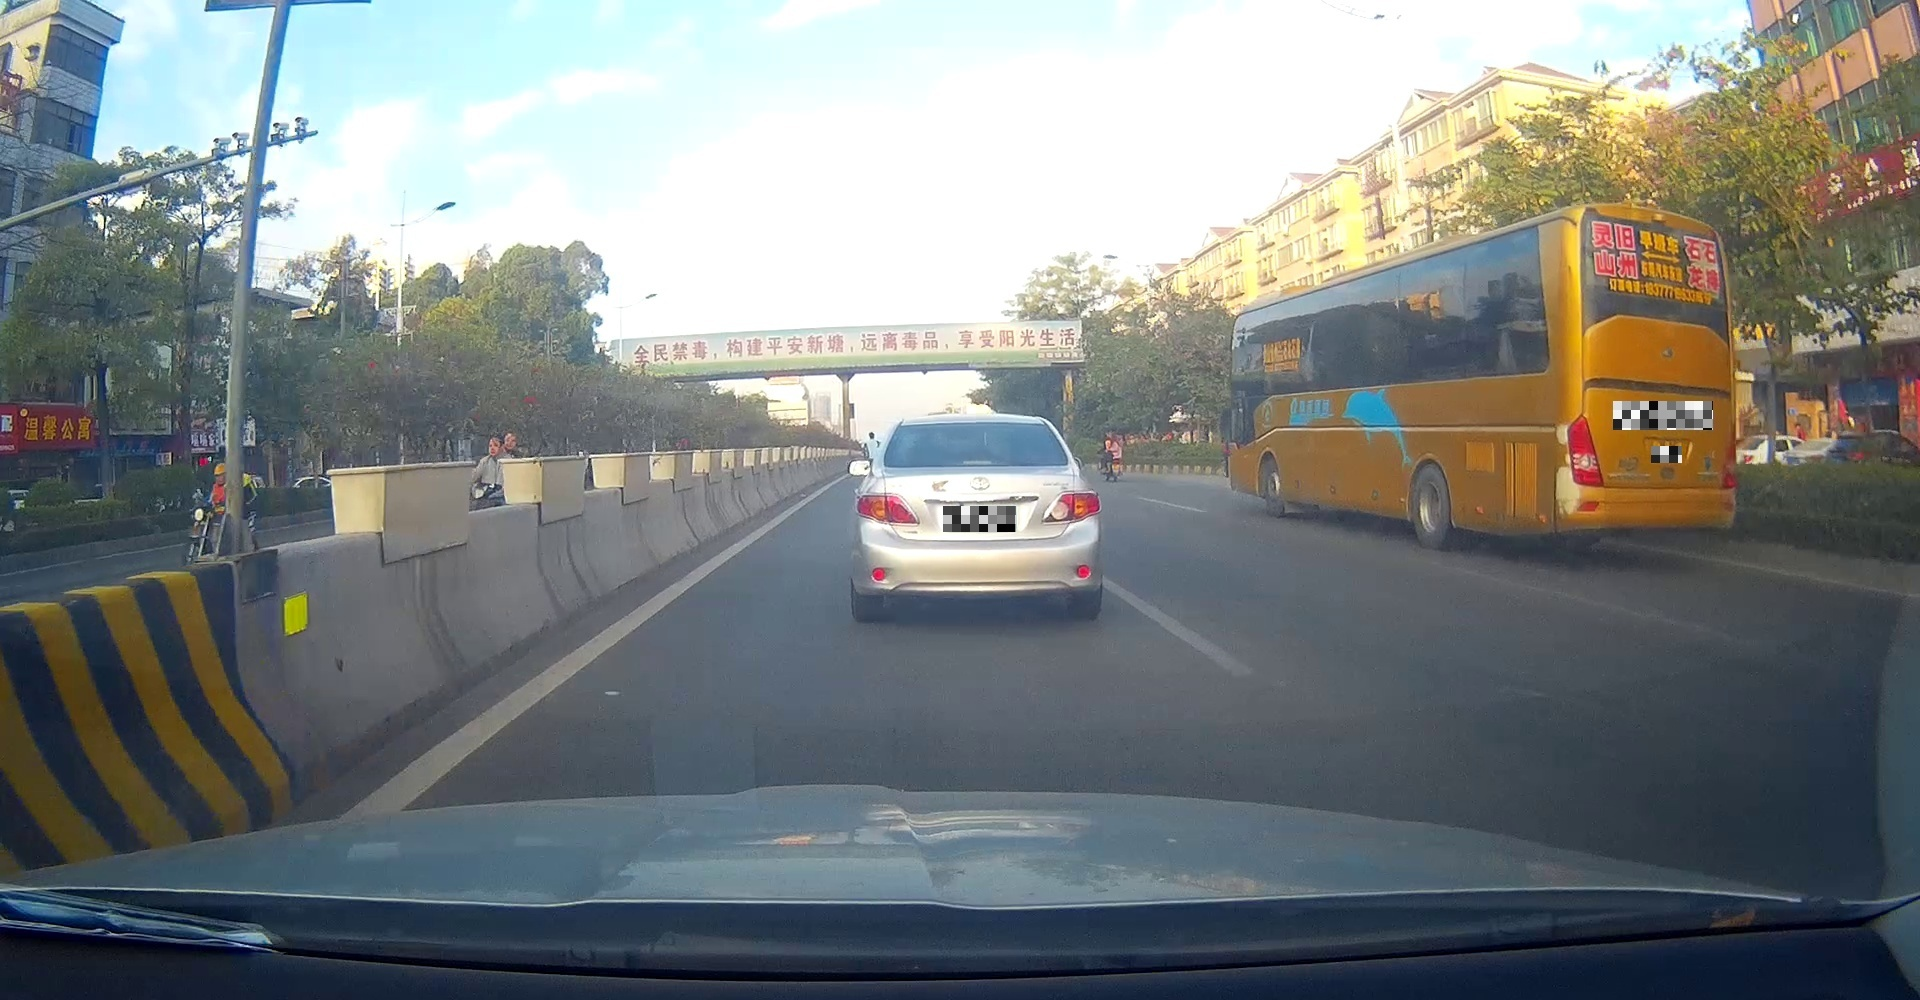L_light: (1566, 414, 1603, 489), (855, 492, 921, 527)
R_light: (1040, 490, 1102, 525), (1718, 424, 1735, 489)
T_light: (1652, 306, 1698, 324), (951, 423, 988, 435)
day-no: (1562, 204, 1737, 551), (853, 412, 1102, 621)
plate_1: (943, 506, 1016, 532)
plate_2: (1613, 401, 1713, 430)
plate_3: (1651, 445, 1683, 463)
